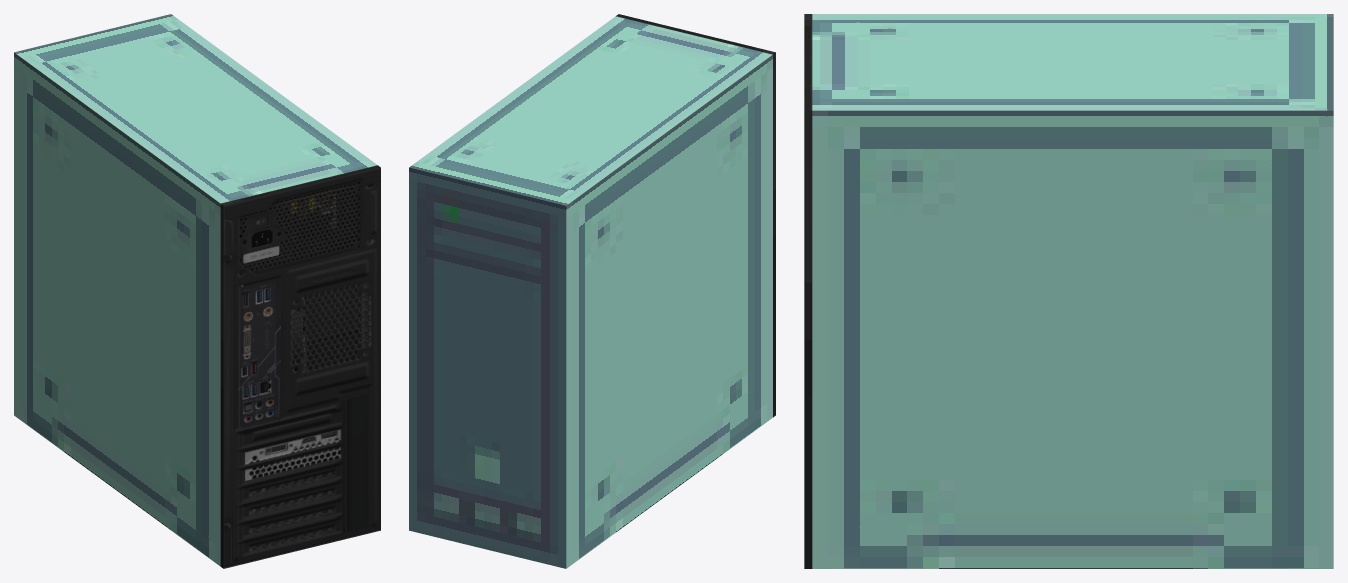
The picture shows the model from 3 angles, left to right: view 1: azimuth 30°, elevation 25°; view 2: azimuth 150°, elevation 25°; view 3: azimuth 270°, elevation 25°; orthographic projection. The views are drawn at different scales.
Visible parts, largest first — view 1: mesh (×2); view 2: mesh (×2); view 3: mesh (×2).
Boxes of the visible parts, <box> form: mesh (×2): <box>14,14,380,568</box>; mesh (×2): <box>409,14,775,568</box>; mesh (×2): <box>804,14,1333,568</box>.
Bounding box in the file's own units: 0.3625 × 0.8 × 0.8375.
Materials: 3 (2 with a texture image).
